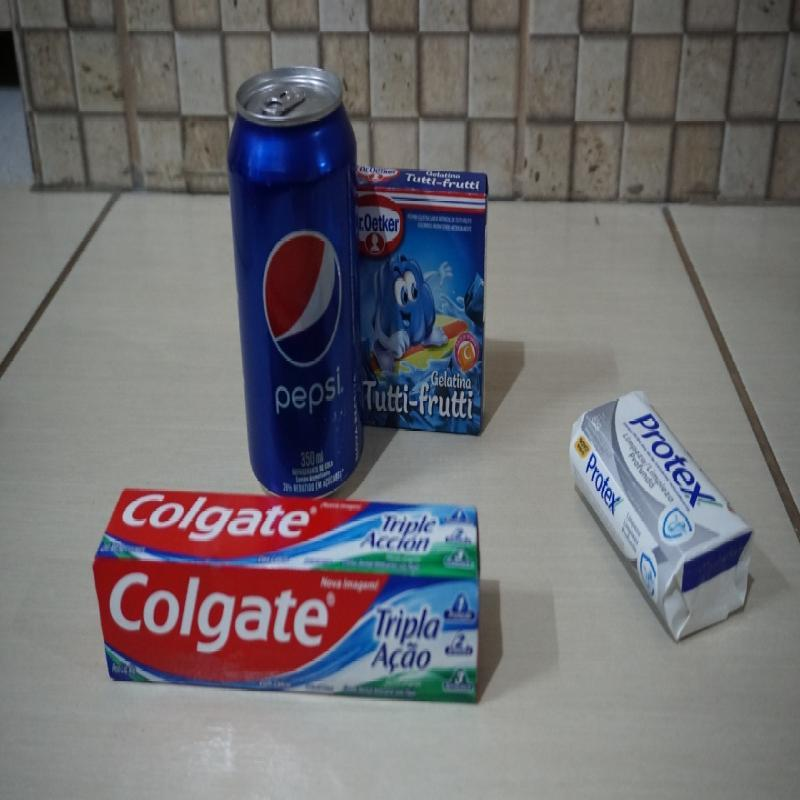Gelatine: (355, 163, 488, 441)
Soap: (569, 389, 754, 642)
Soda can: (227, 64, 364, 500)
Toothpaste: (91, 486, 484, 707)
